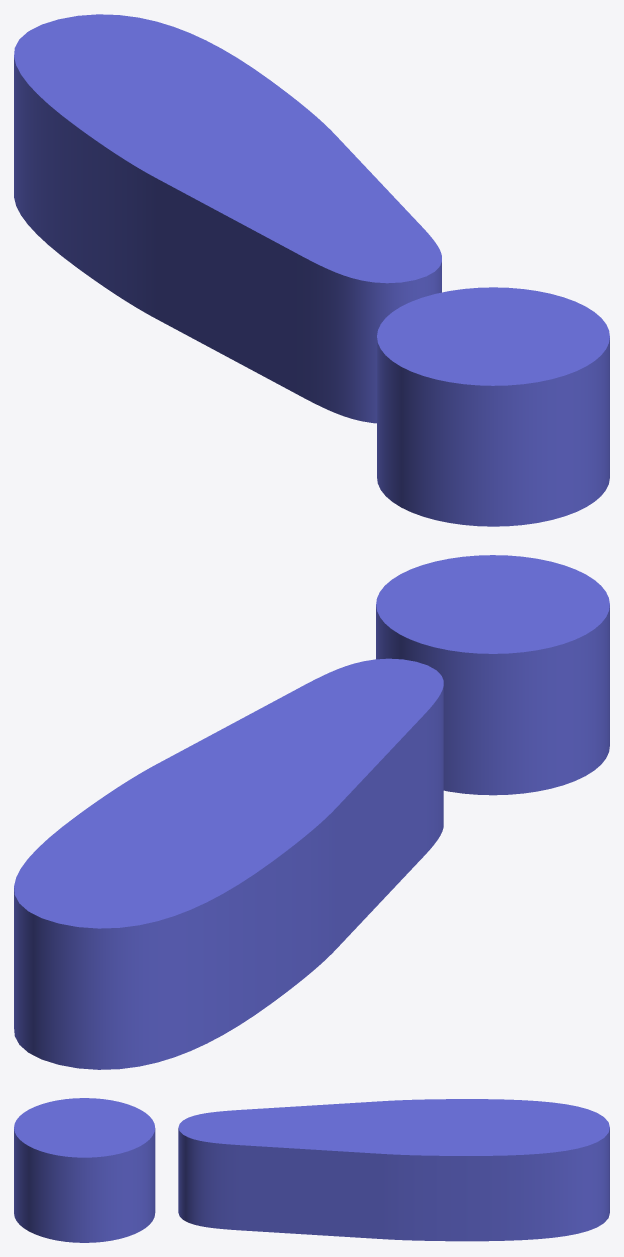
Rendered from InterrogacionSigno.fbx.
The picture shows the model from 3 angles, top to bottom: view 1: azimuth 30°, elevation 25°; view 2: azimuth 150°, elevation 25°; view 3: azimuth 270°, elevation 25°; orthographic projection. The views are drawn at different scales.
Parts seen in each view (by area): view 1: Text.005; view 2: Text.005; view 3: Text.005.
Part boxes in pixels (box(x1,y1,x2,y2)): Text.005: box(14, 14, 609, 526); Text.005: box(14, 555, 609, 1069); Text.005: box(14, 1098, 609, 1242).
Bounding box in the file's own units: 33.69 × 22.44 × 142.
